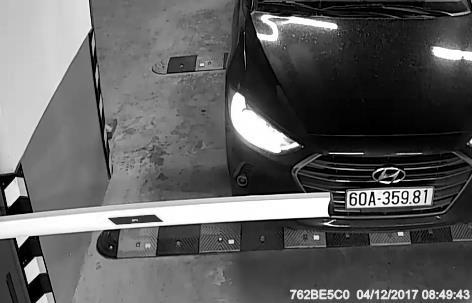License-plate: (342, 182, 442, 220)
